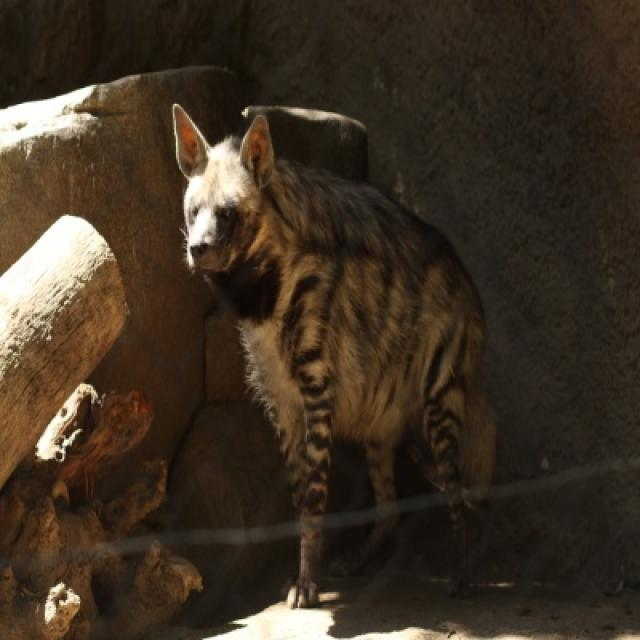hyena: (168, 106, 498, 611)
